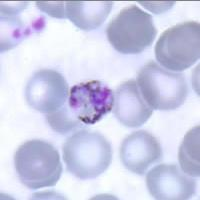Infected: (67, 79, 113, 127)
Uninfected: (138, 59, 186, 110), (62, 133, 112, 181), (107, 4, 155, 54), (146, 161, 196, 200), (24, 66, 66, 111), (120, 129, 161, 174), (114, 79, 151, 127), (15, 139, 59, 176), (156, 31, 192, 72), (167, 22, 200, 66), (64, 0, 110, 30), (19, 158, 63, 186)
